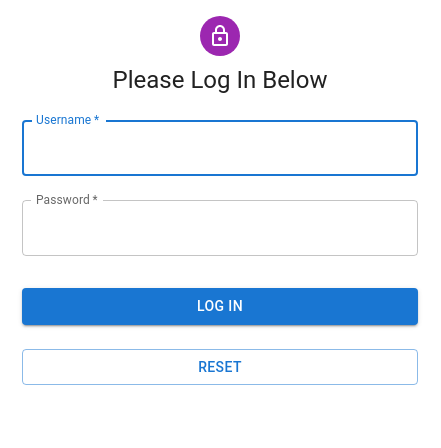
Scenario: has required fields validation
The width and height of the screenshot is (441, 448).
What coordinates should you click on to do the following:
click the button with aria-label "button"
I would click on:
 (220, 306)
Its box is [22,288,418,324].
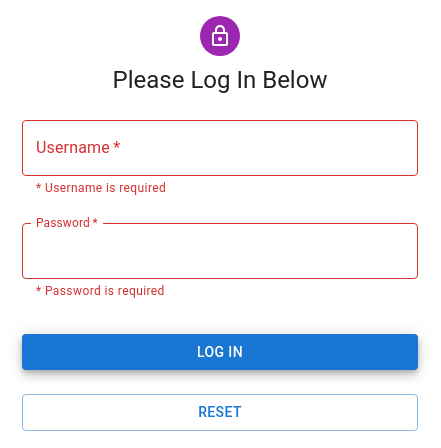
Now the text "* Username is required" is shown, box [36,181,166,195]
Now the text "* Password is required" is shown, box [36,284,165,298]
